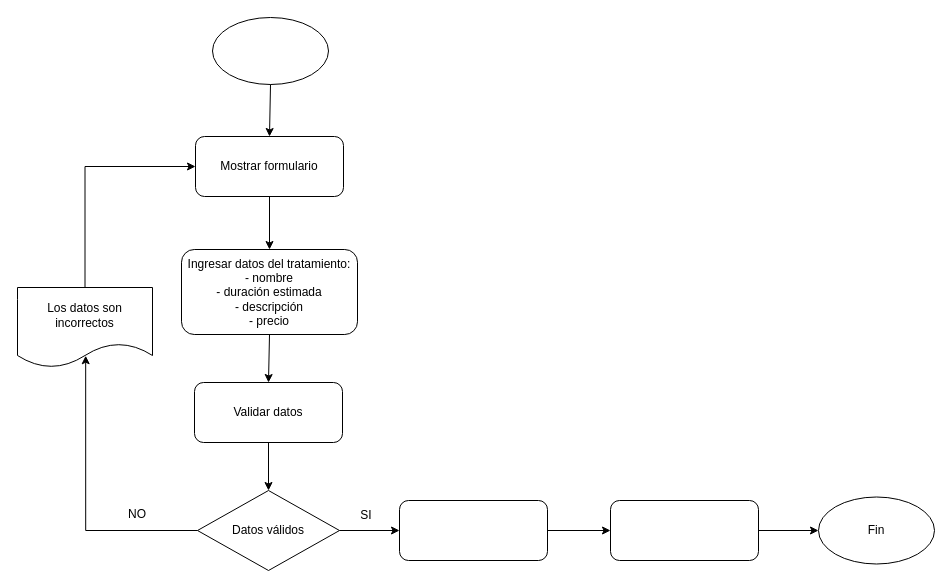
The diagram is 952 pixels wide and 588 high, and some of its shapes have lost their labels. Here are the shapes that lost their labels. From the top down, the box of each, then its label:
(212, 16, 328, 84): Inicio
(398, 500, 548, 560): Registrar tratamiento en la Base de Datos
(610, 500, 758, 560): Mostrar lista de tratamientos actualizada
